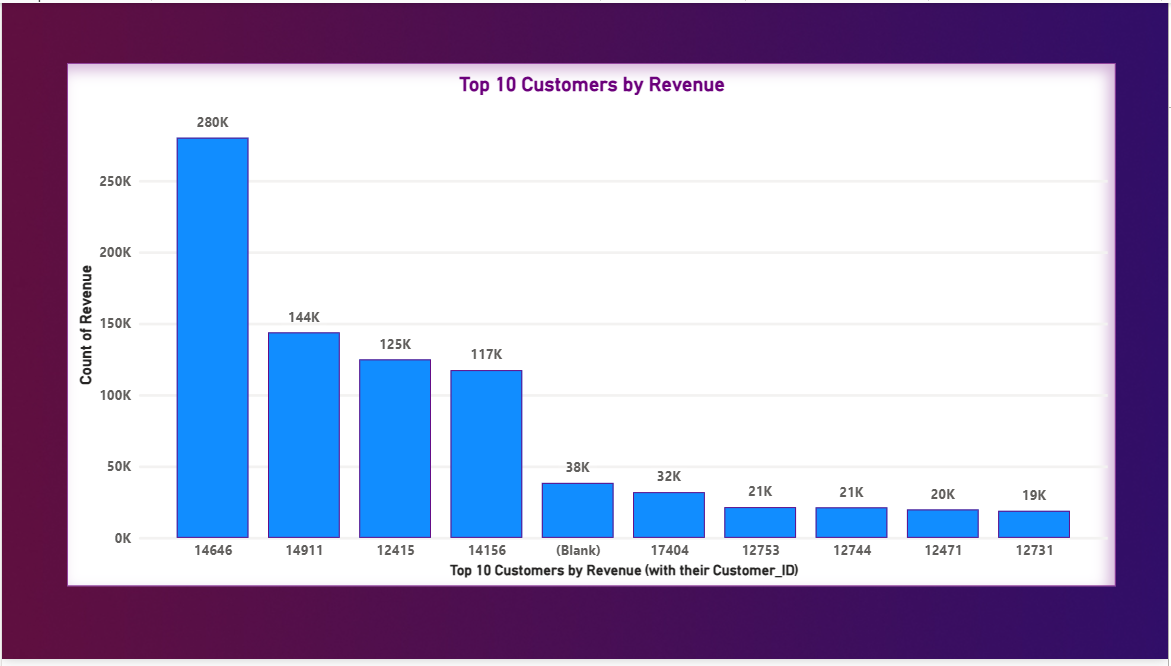

Layout of this report page (visuals, bound fields, positions):
{"tool":"powerbi","page":{"name":"Q3","canvas":[1280,720],"ordinal":2},"visuals":[{"type":"clusteredColumnChart","title":"Top 10 Customers by Revenue","fields":{"Category":["Online Retail (4).CustomerID"],"Y":["Sum(Online Retail (4).Total_Revenue)"]},"box":[71.4,65.9,1151.3,574],"z":0}]}

Visuals, with their boxes in screenshot pixels (x1, y1, x2, y2), scaled from the page's 1280x720 canvas onto the 1171x666 screenshot:
"Top 10 Customers by Revenue" clusteredColumnChart: (65, 61, 1119, 592)
